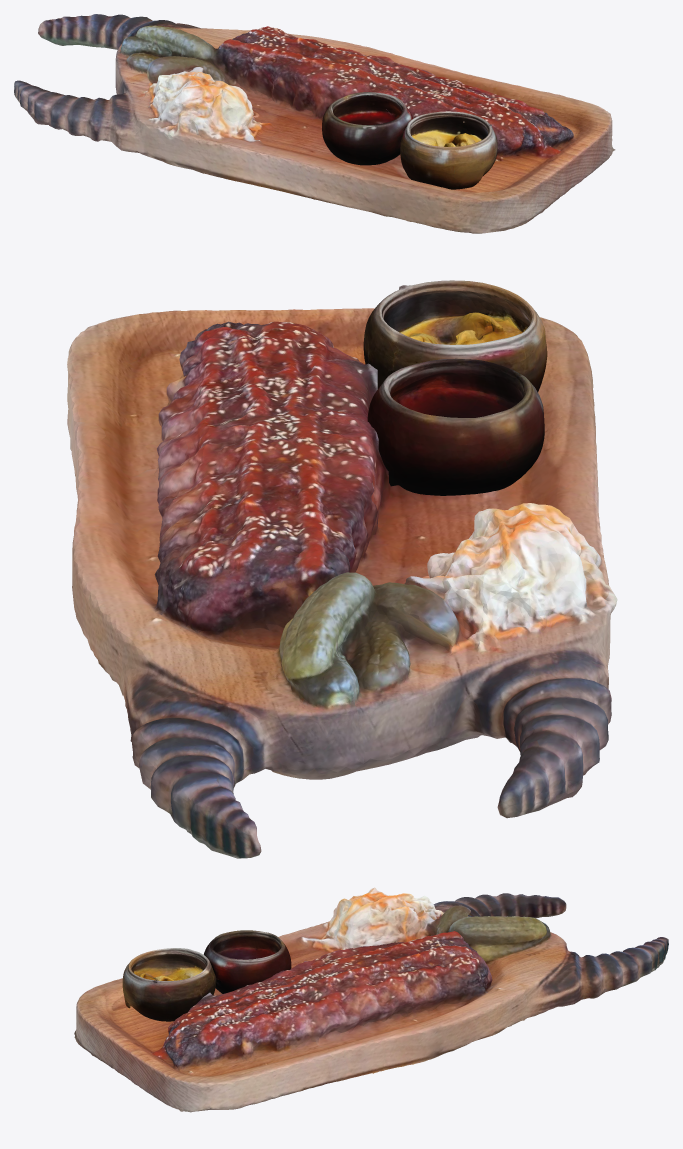
File: Dandeh3.25.glb
3 renders of one model, top to bottom at view 1: azimuth 30°, elevation 25°; view 2: azimuth 150°, elevation 25°; view 3: azimuth 270°, elevation 25°, orthographic. The views are drawn at different scales.
Parts seen in each view (by area): view 1: object 1, world; view 2: object 1, world; view 3: object 1, world.
Part boxes in pixels (x1,y1,x2,y2): object 1: (14,14,615,233); world: (322,92,497,189); object 1: (67,308,617,858); world: (363,280,547,495); object 1: (74,887,668,1112); world: (122,930,291,1021).
Bounding box in the file's own units: 0.4315 × 0.0627 × 0.5375.
Materials: 4 (2 with a texture image).
